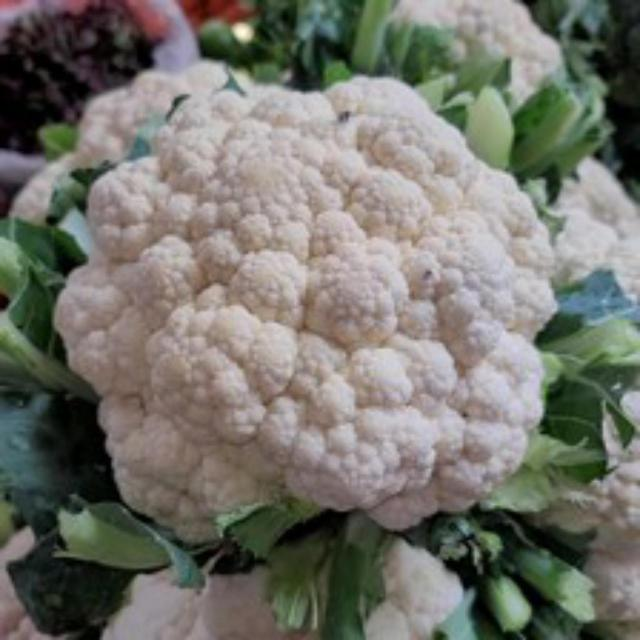cauliflower: (60, 68, 562, 560)
